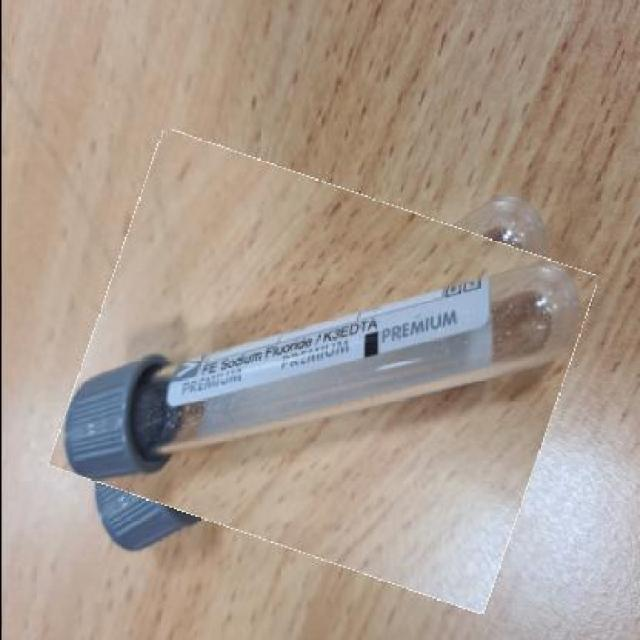Experimental-tube: (70, 160, 576, 582)
